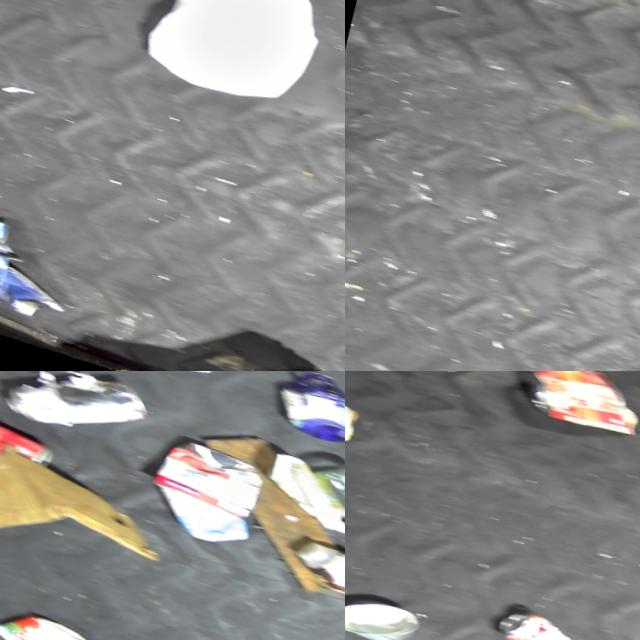can: (0, 371, 156, 452), (145, 422, 270, 520), (511, 371, 640, 439), (0, 398, 58, 476), (345, 582, 423, 640), (489, 595, 584, 640)
milk_jug: (133, 0, 336, 116)
plastic_bottle: (280, 445, 345, 634)
